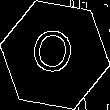O_S: (31, 26, 79, 84)
